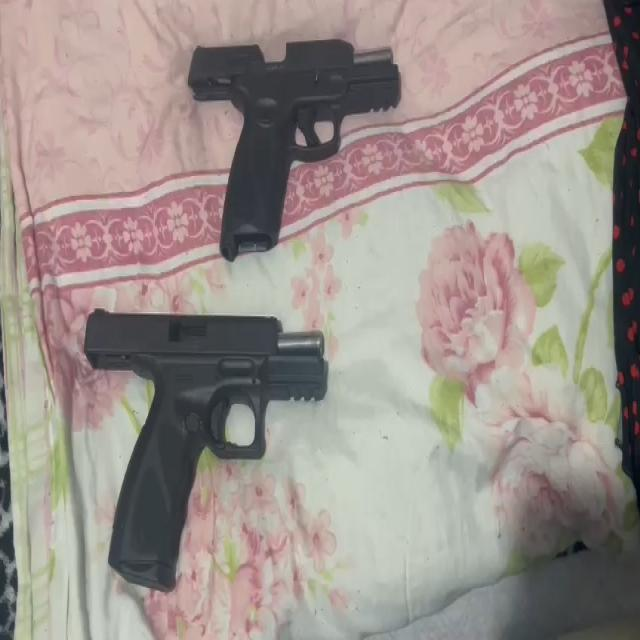gun: (82, 306, 328, 594), (188, 38, 402, 263)
